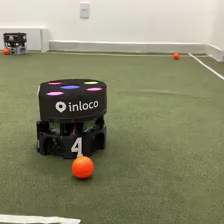ball: (71, 154, 95, 180), (172, 50, 181, 60), (2, 47, 10, 55)
goal: (1, 25, 50, 52)
robot: (33, 77, 110, 160), (1, 31, 29, 55)
